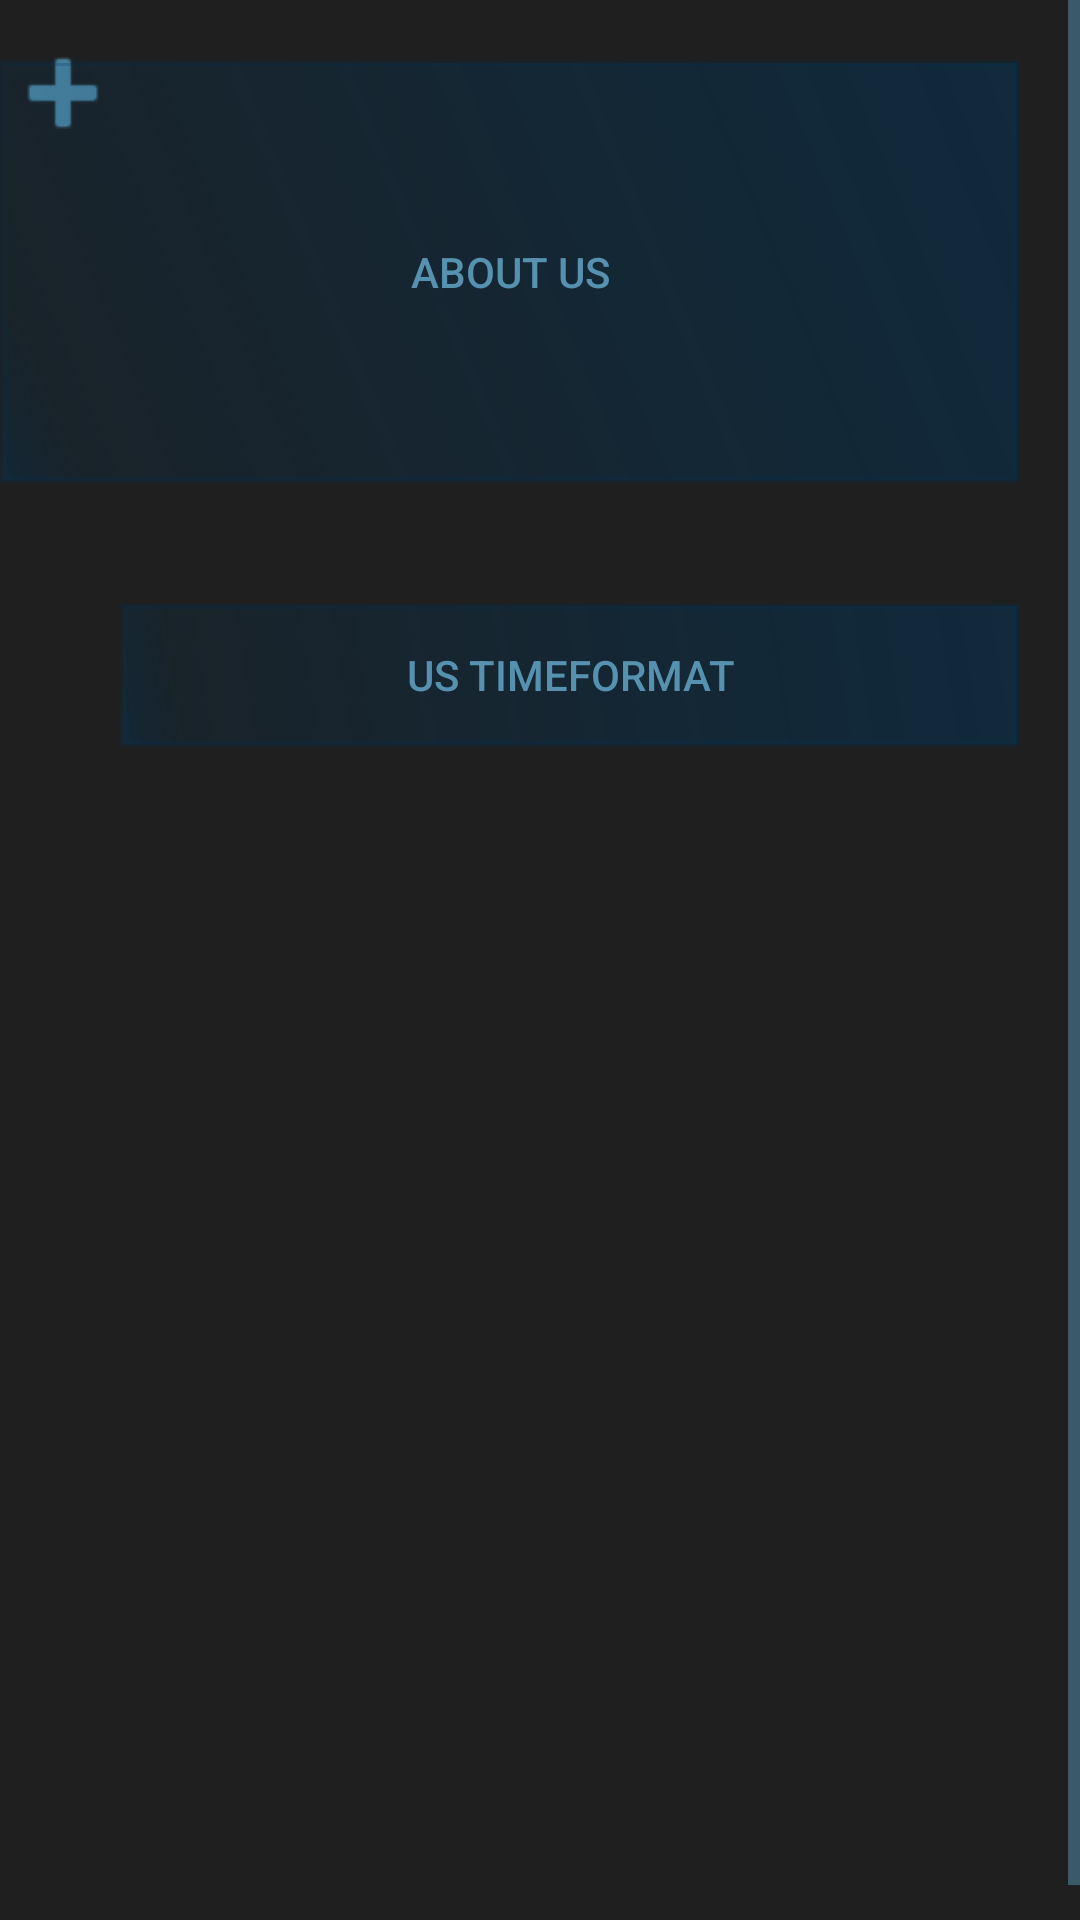

Locate icon controls on the screen. Image size 1080w x 1920h, boxes as (x1, y1, x2, y2).
add: (28, 58, 98, 128)
